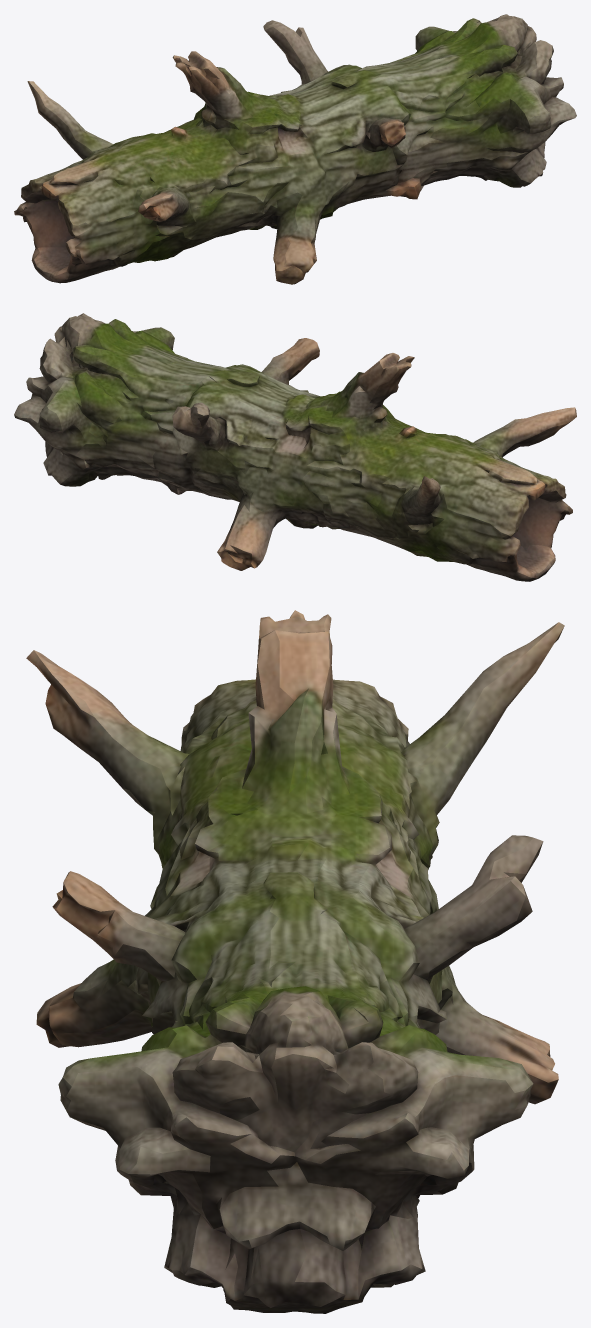
The picture shows the model from 3 angles, top to bottom: view 1: azimuth 30°, elevation 25°; view 2: azimuth 150°, elevation 25°; view 3: azimuth 270°, elevation 25°; orthographic projection. The views are drawn at different scales.
Visible parts, largest first — view 1: world; view 2: world; view 3: world.
Part boxes in pixels (left/top/right/bottom): world: left=14, top=14, right=576, bottom=284; world: left=14, top=313, right=576, bottom=581; world: left=26, top=610, right=564, bottom=1313.
Size of the model in its own units: 1.2 by 0.4455 by 0.5622.
1 material, 1 textured.
